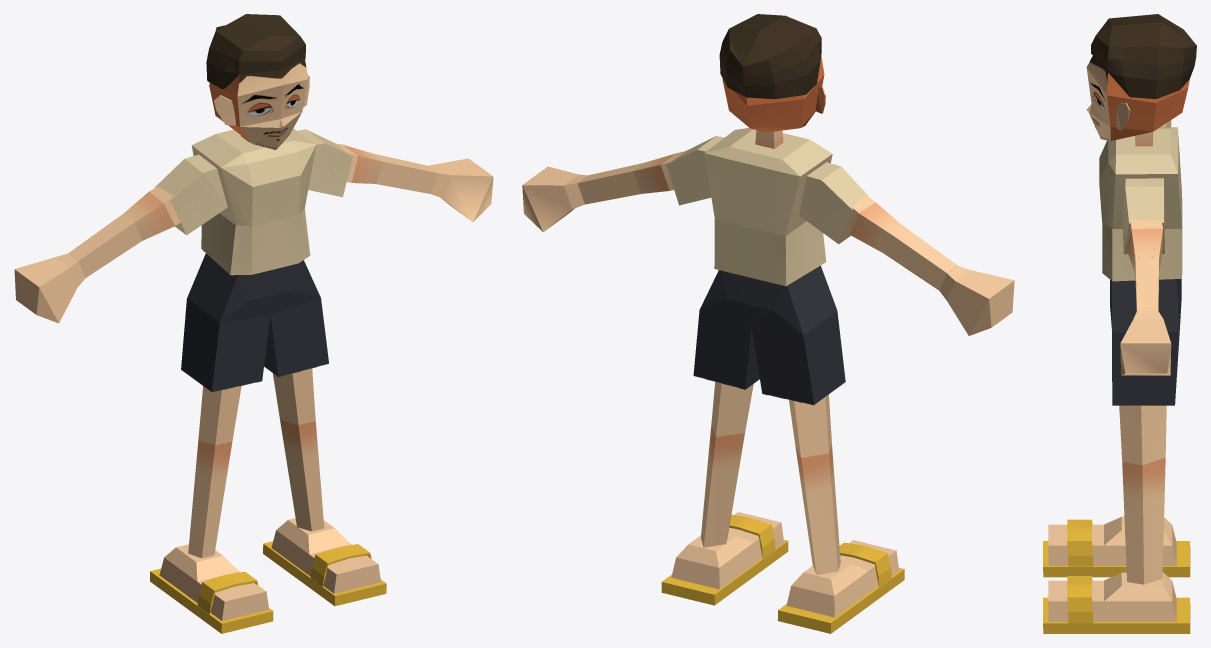
File: Uncle night.glb
3 views of the same model, side by side, from view 1: azimuth 30°, elevation 25°; view 2: azimuth 150°, elevation 25°; view 3: azimuth 270°, elevation 25° (orthographic). The views are drawn at different scales.
Visible parts, largest first — view 1: Cloth_Body, Right_Legging, Head, Hair, Right_Foot, Left_Legging, Left_Foot, Lower_Right_Leg, Lower_Left_Leg, Cloth_Right_Arm.001, Right_Hand, Lower_Right_Pant (+12 smaller); view 2: Cloth_Body, Hair, Right_Legging, Left_Legging, Right_Foot, Left_Foot, Lower_Right_Leg, Right_Hand, Lower_Left_Leg, Cloth_Right_Arm.001, Head, Lower_Right_Pant (+12 smaller); view 3: Cloth_Body, Hair, Lower_Left_Leg, Left_Foot, Head, Left__Flipflop.002, Right__Flipflop.001, Right_Foot, Left_Hand, Left_Legging, Upper_Left_Leg, Lower_Leftt_Pant (+4 smaller).
Part boxes in pixels (left/top/right/bottom): Cloth_Body: left=191, top=128, right=316, bottom=275; Right_Legging: left=181, top=299, right=270, bottom=392; Head: left=209, top=58, right=309, bottom=149; Hair: left=206, top=14, right=305, bottom=89; Right_Foot: left=159, top=544, right=268, bottom=620; Left_Legging: left=264, top=298, right=328, bottom=377; Left_Foot: left=271, top=518, right=380, bottom=593; Lower_Right_Leg: left=188, top=440, right=232, bottom=558; Lower_Left_Leg: left=280, top=420, right=324, bottom=531; Cloth_Right_Arm.001: left=154, top=154, right=227, bottom=235; Right_Hand: left=14, top=253, right=85, bottom=323; Lower_Right_Pant: left=187, top=253, right=269, bottom=322; Cloth_Body: left=704, top=128, right=832, bottom=286; Hair: left=719, top=14, right=821, bottom=99; Right_Legging: left=751, top=311, right=845, bottom=405; Left_Legging: left=693, top=310, right=759, bottom=389; Right_Foot: left=786, top=540, right=899, bottom=617; Left_Foot: left=671, top=512, right=783, bottom=589; Lower_Right_Leg: left=795, top=445, right=840, bottom=574; Right_Hand: left=939, top=265, right=1014, bottom=335; Lower_Left_Leg: left=701, top=425, right=744, bottom=547; Cloth_Right_Arm.001: left=799, top=162, right=869, bottom=244; Head: left=722, top=56, right=825, bottom=132; Lower_Right_Pant: left=752, top=265, right=837, bottom=335; Cloth_Body: left=1099, top=127, right=1182, bottom=281; Hair: left=1091, top=14, right=1196, bottom=98; Lower_Left_Leg: left=1122, top=457, right=1165, bottom=584; Left_Foot: left=1048, top=572, right=1176, bottom=621; Head: left=1086, top=56, right=1189, bottom=140; Left__Flipflop.002: left=1043, top=576, right=1190, bottom=633; Right__Flipflop.001: left=1043, top=519, right=1190, bottom=577; Right_Foot: left=1048, top=516, right=1176, bottom=565; Left_Hand: left=1120, top=311, right=1171, bottom=375; Left_Legging: left=1112, top=332, right=1179, bottom=405; Upper_Left_Leg: left=1119, top=405, right=1166, bottom=465; Lower_Leftt_Pant: left=1110, top=279, right=1181, bottom=332.
Bounding box in the file's own units: 1.56 × 1.83 × 0.4478.
Materials: 6 (6 with a texture image).
